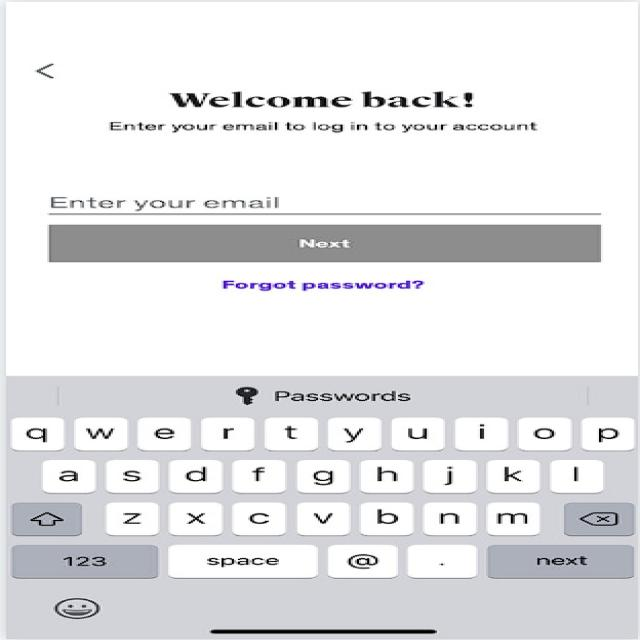button: (27, 218, 621, 270)
icon button: (12, 55, 96, 88)
input: (30, 168, 619, 221)
text: (86, 88, 610, 140), (214, 275, 432, 290)
